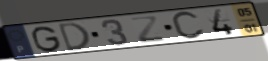3: (101, 17, 131, 47)
4: (211, 8, 236, 36)
C: (170, 10, 207, 41)
D: (56, 21, 92, 53)
G: (31, 24, 64, 53)
Z: (129, 16, 169, 45)
